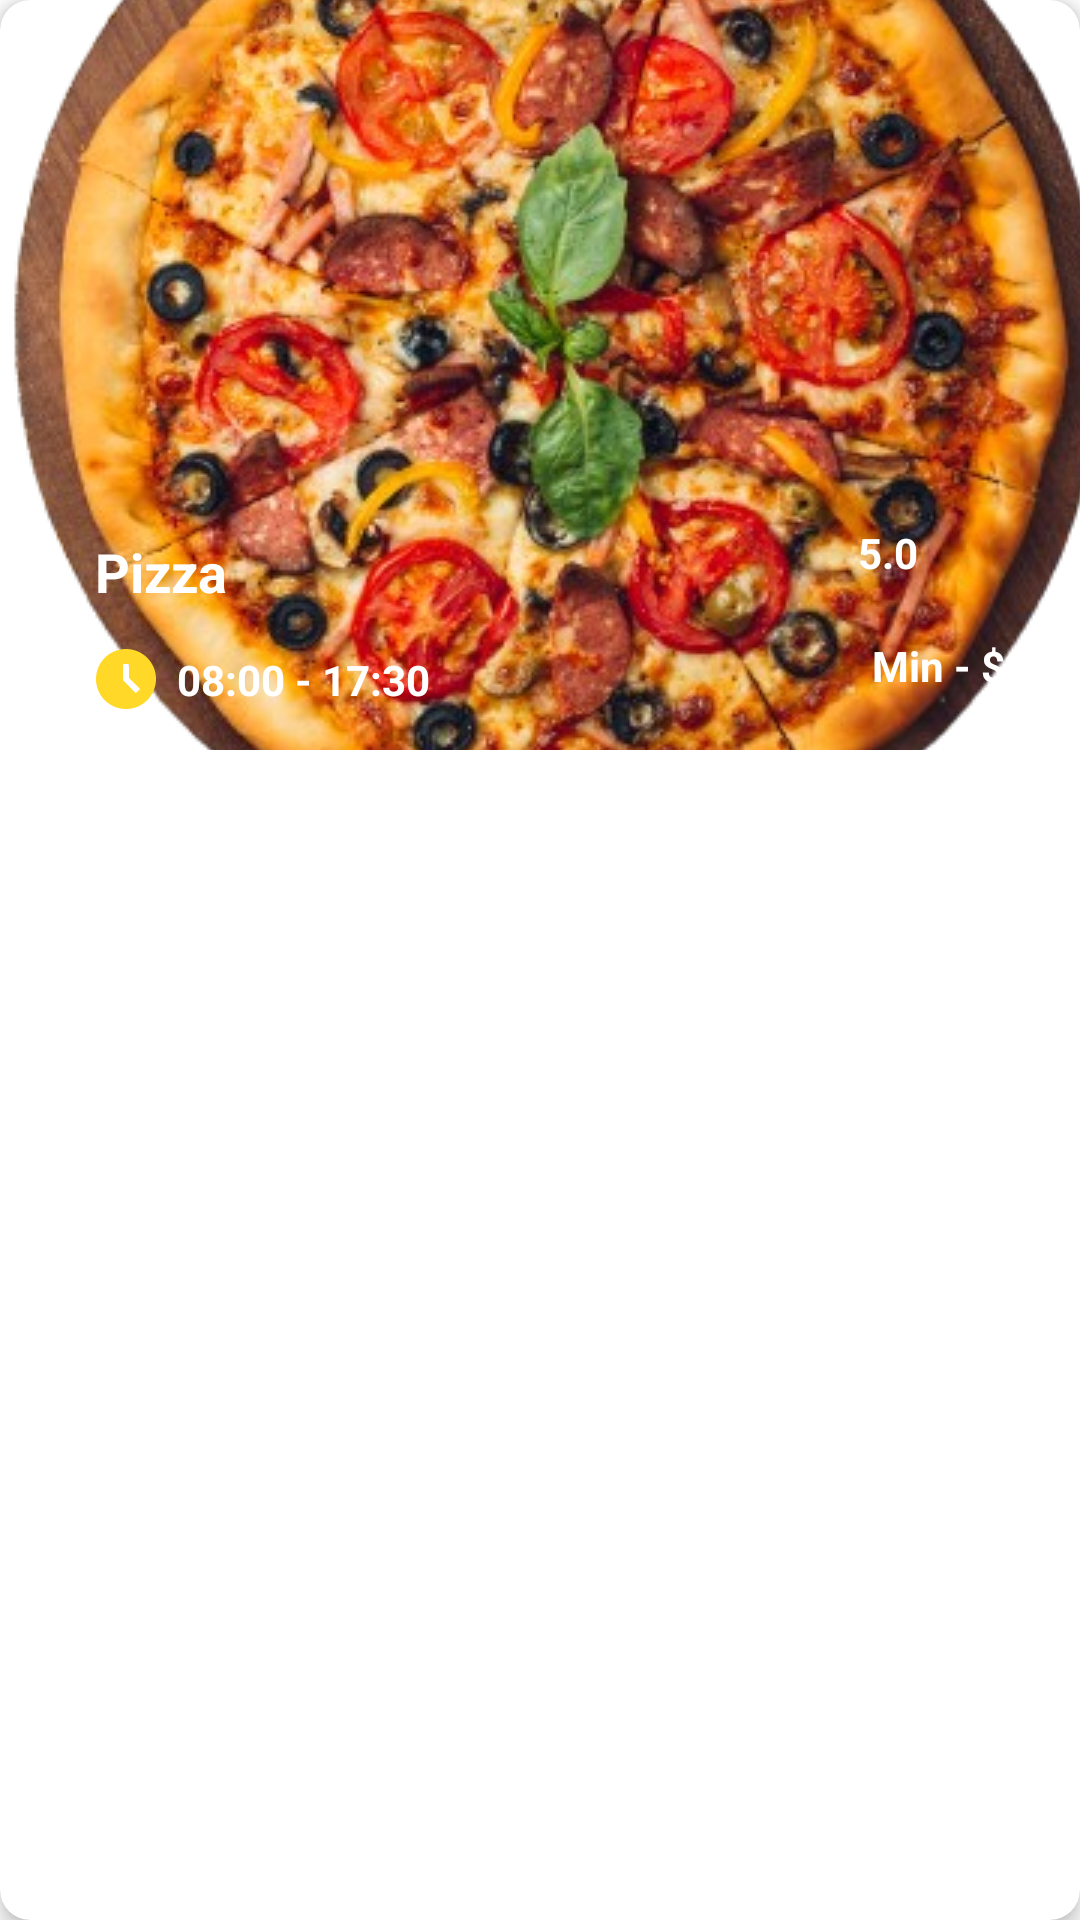

Screen size 1080*1920. Icon name, then its center in pixels as (x,y):
access time: (129,676)
